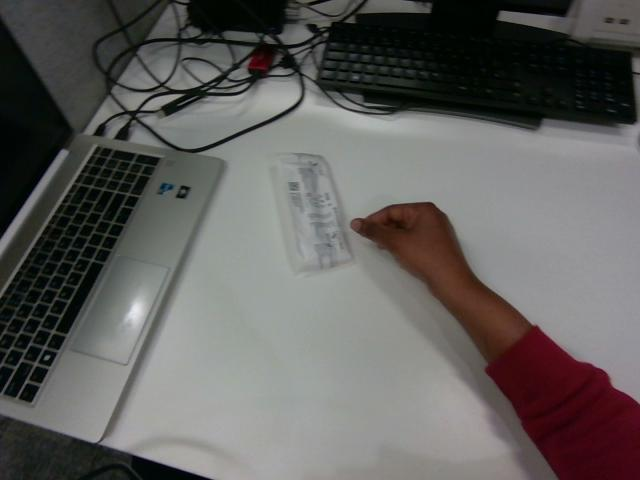syringe: (274, 153, 352, 272)
